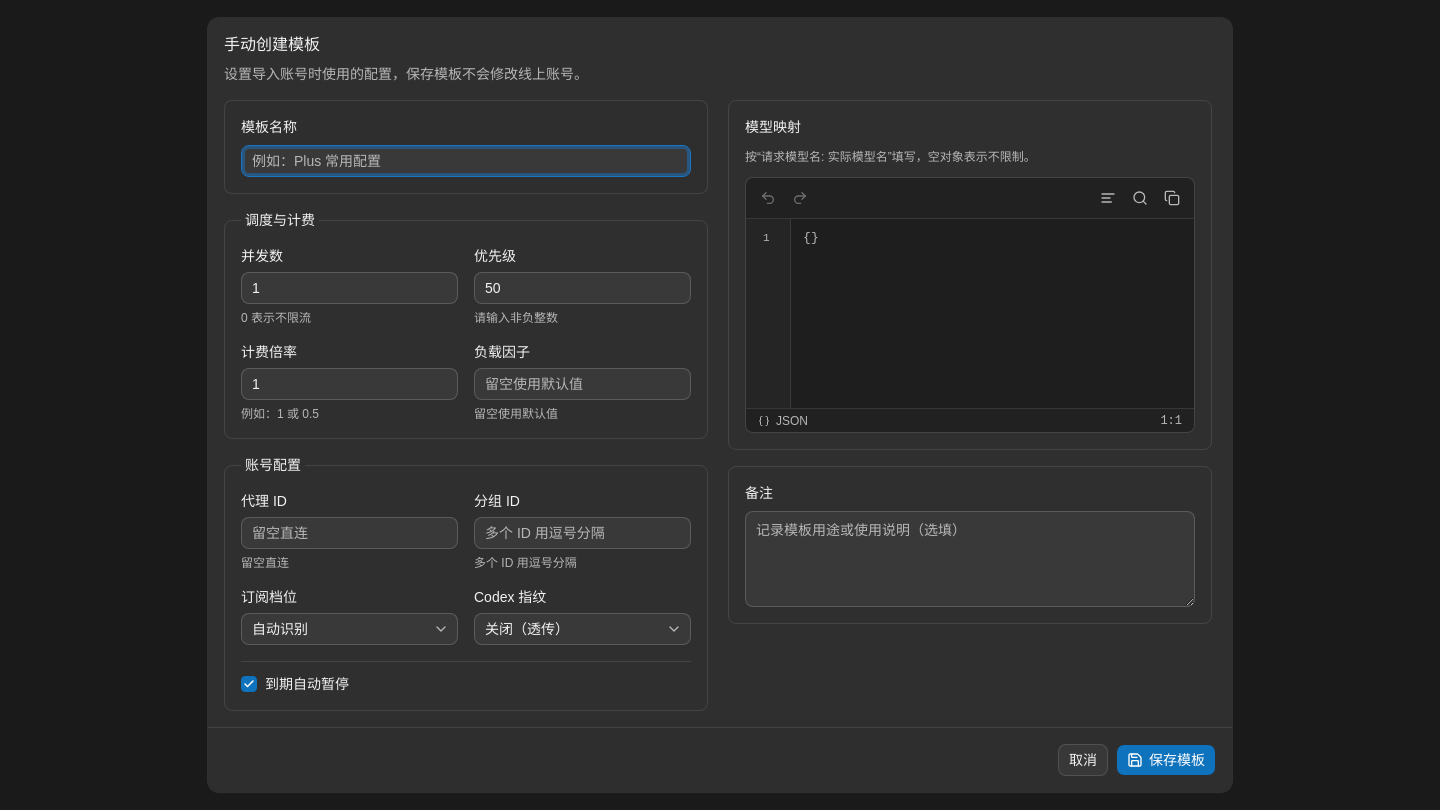
无效名称和分组阻止保存并提示具体字段
Step 1. Type "abc" into the field labelled "分组 ID" → (582, 533), box [474,517,691,549]
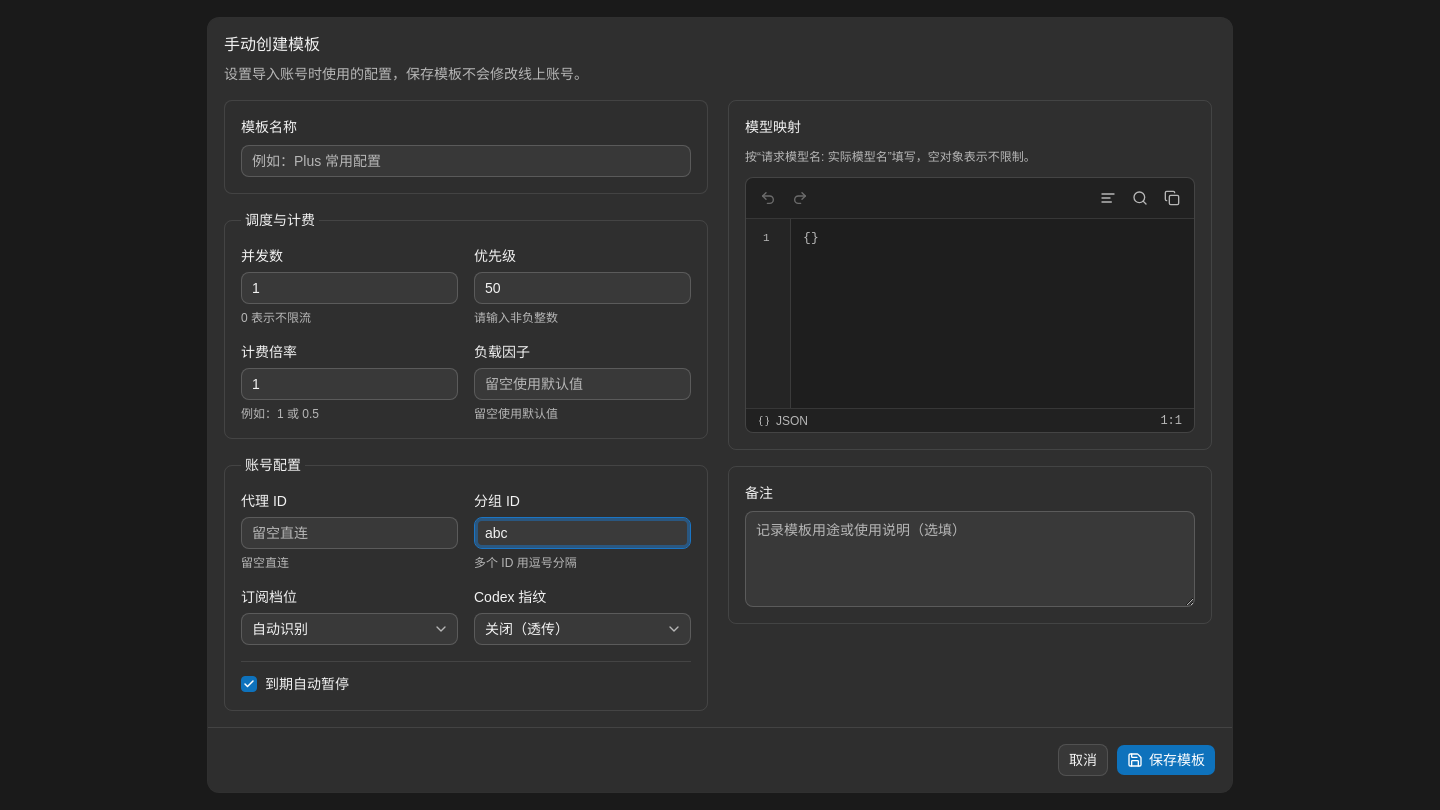
Step 2. Click the button "保存模板" → (1166, 760), box [1116,744,1216,776]
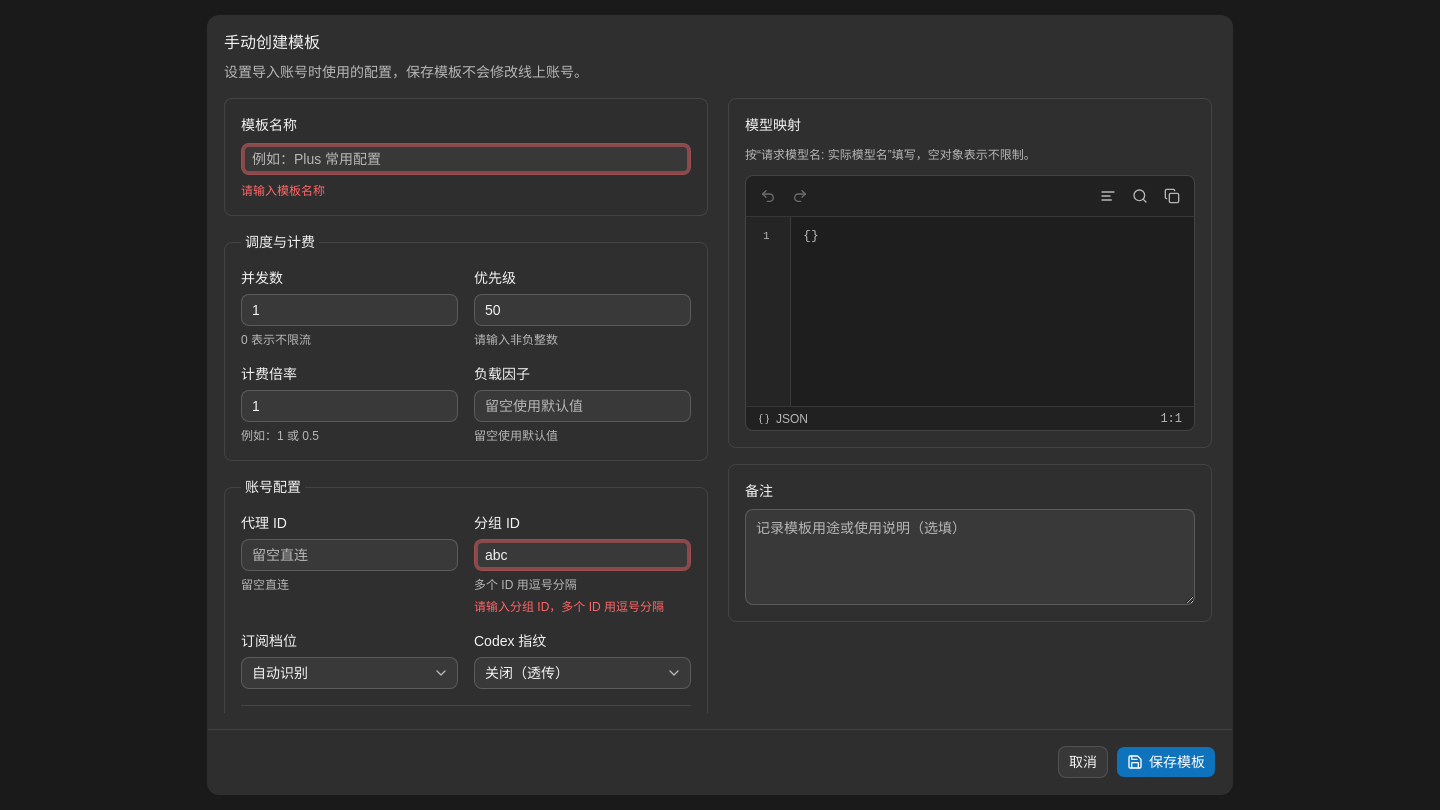
Expected: the text "请输入模板名称" is shown, [241,184,325,198]
Expected: the text "请输入分组 ID，多个 ID 用逗号分隔" is shown, [474,599,691,615]
